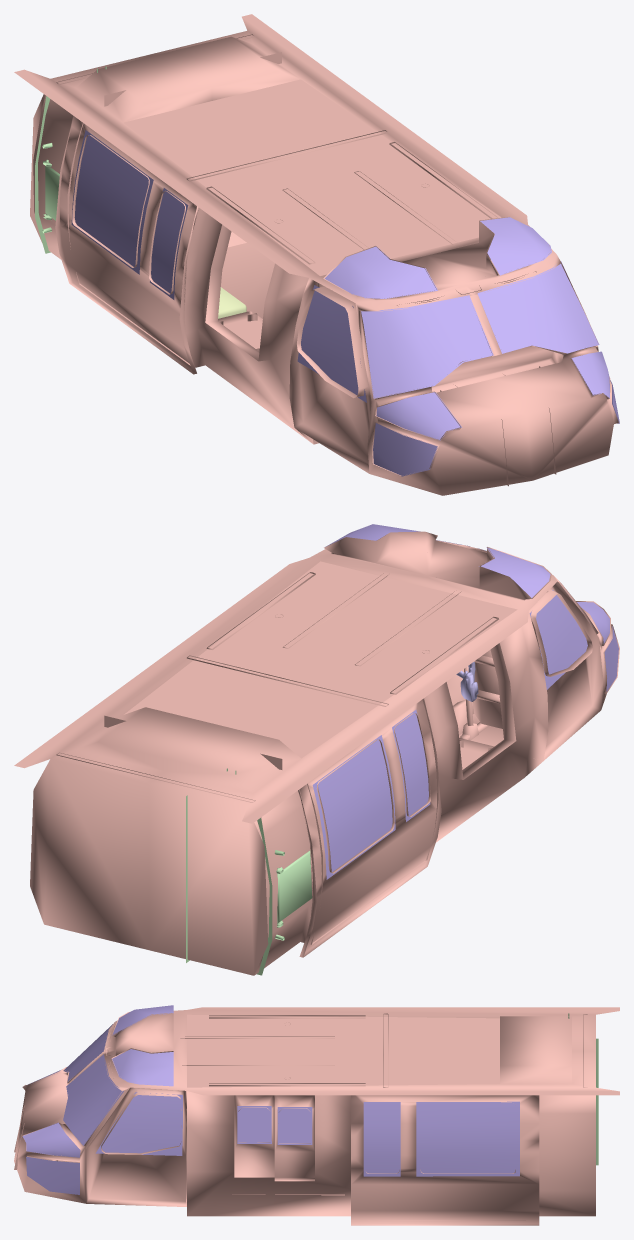
Rendered from acc.fbx.
3 views of the same model, one above another, from view 1: azimuth 30°, elevation 25°; view 2: azimuth 150°, elevation 25°; view 3: azimuth 270°, elevation 25° (orthographic). The views are drawn at different scales.
Parts seen in each view (by area): view 1: acc.001, acc.004, acc.002, acc.003, acc.005; view 2: acc.001, acc.002, acc.004, acc.005; view 3: acc.001, acc.004, acc.002, acc.005.
Part boxes in pixels (x1,y1,x2,y2): acc.001: (14, 14, 618, 495); acc.004: (71, 130, 619, 476); acc.002: (123, 79, 501, 275); acc.003: (79, 243, 274, 365); acc.005: (35, 66, 106, 253); acc.001: (14, 531, 619, 975); acc.002: (124, 561, 517, 758); acc.004: (312, 524, 618, 879); acc.005: (186, 768, 312, 975); acc.001: (14, 1007, 619, 1225); acc.004: (22, 1005, 519, 1194); acc.002: (187, 1014, 499, 1087); acc.005: (568, 1013, 598, 1165).
Bounding box in the file's own units: 9670 × 6927 × 25275.
